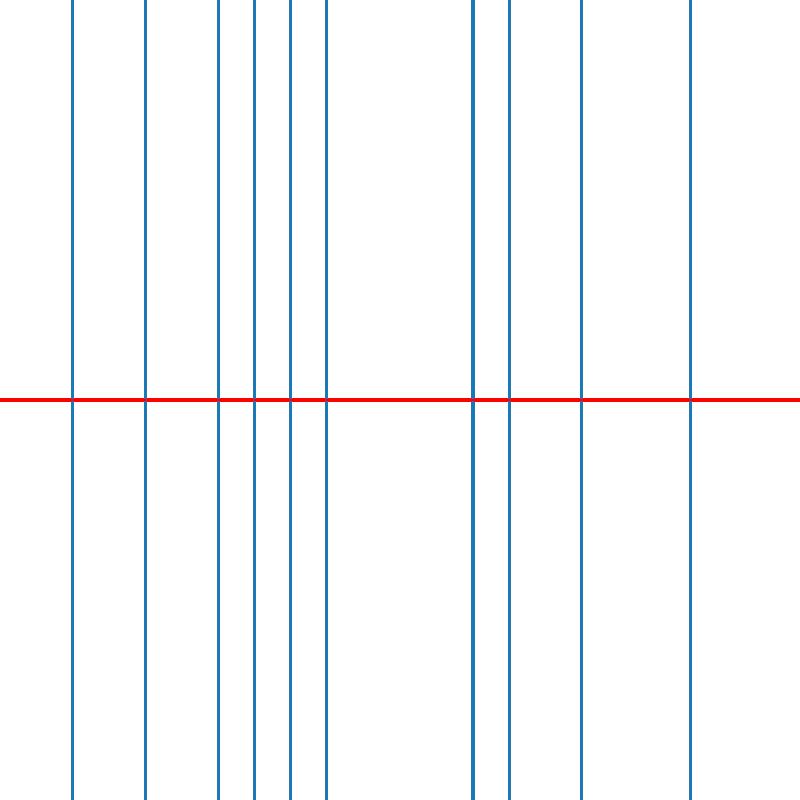root: (250, 396, 258, 404), (141, 396, 149, 404), (323, 396, 330, 404), (505, 396, 512, 404), (69, 396, 76, 404), (578, 396, 585, 404), (214, 396, 221, 404), (287, 396, 294, 404), (687, 396, 694, 404), (469, 396, 476, 404)
